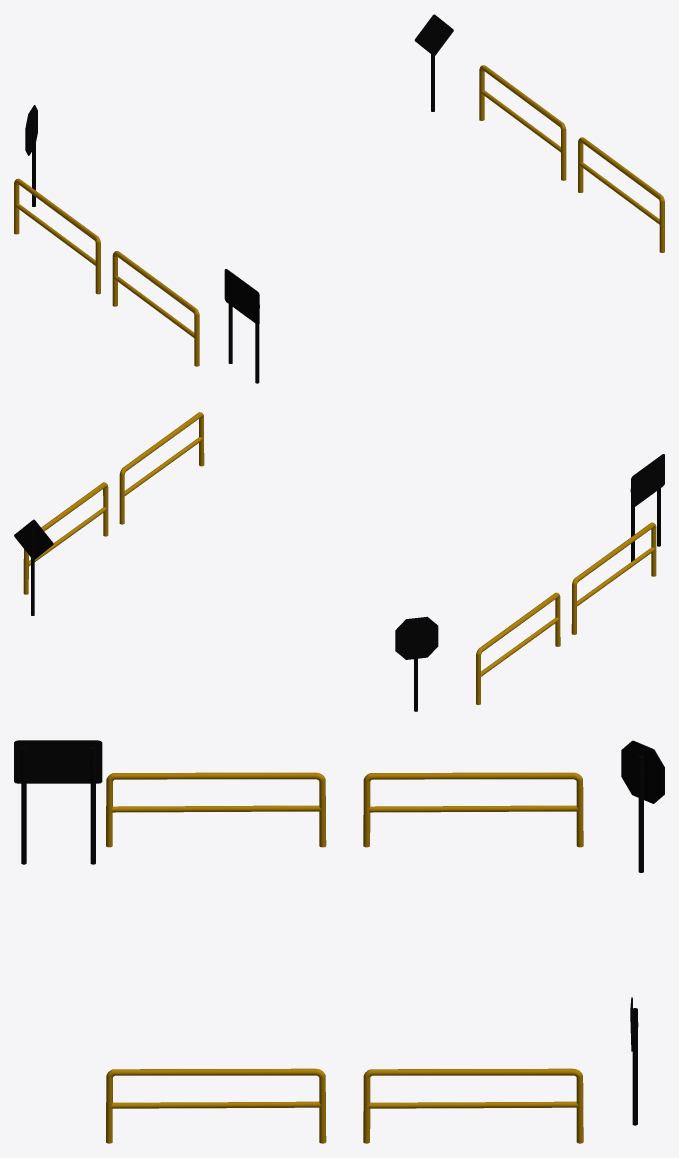
The model's file is StrObjPack.fbx.
3 views of the same model, one above another, from view 1: azimuth 30°, elevation 25°; view 2: azimuth 150°, elevation 25°; view 3: azimuth 270°, elevation 25° (orthographic). The views are drawn at different scales.
Visible parts, largest first — view 1: StrObjPack; view 2: StrObjPack; view 3: StrObjPack.
Boxes of the visible parts, x1,y1,x2,y2 form: StrObjPack: (14, 14, 664, 383); StrObjPack: (14, 412, 664, 711); StrObjPack: (14, 740, 664, 1143).
Size of the model in its own units: 1186 by 235 by 1090.
